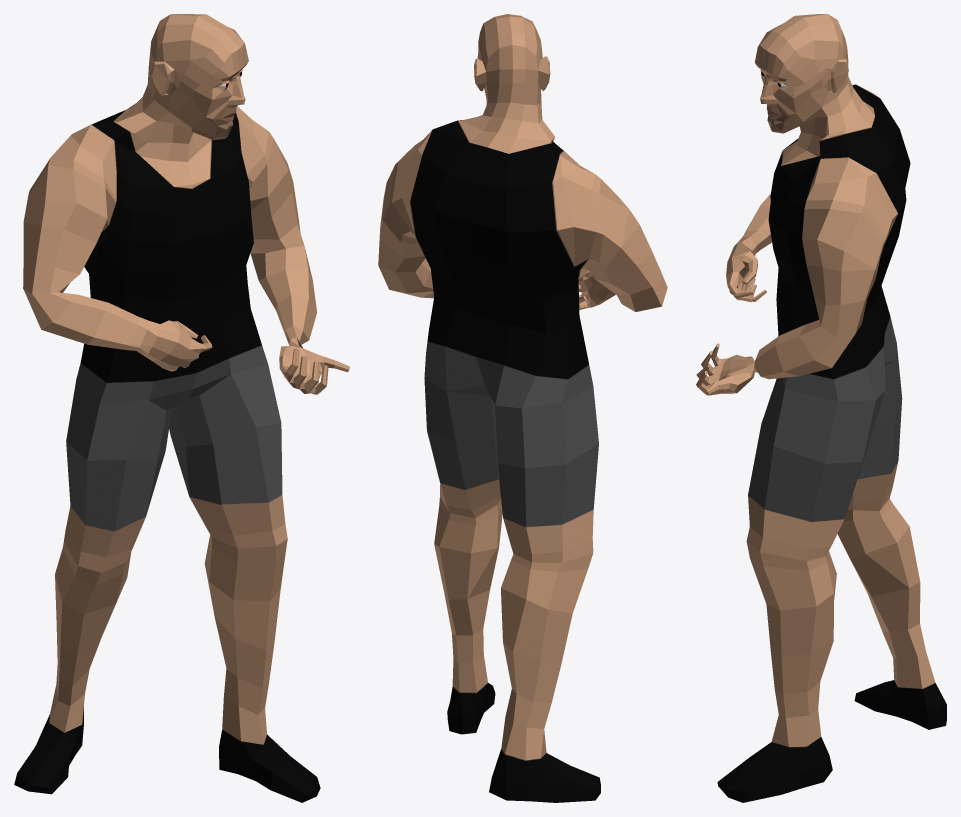
The model's file is PlayerIdle(116).obj.
3 renders of one model, left to right at view 1: azimuth 30°, elevation 25°; view 2: azimuth 150°, elevation 25°; view 3: azimuth 270°, elevation 25°, orthographic. The views are drawn at different scales.
Visible parts, largest first — view 1: Plane002; view 2: Plane002; view 3: Plane002.
Part boxes in pixels (bbox=[...]): Plane002: bbox=[14, 14, 349, 802]; Plane002: bbox=[378, 14, 667, 802]; Plane002: bbox=[696, 14, 946, 802].
Bounding box in the file's own units: 702 × 1802 × 552.
